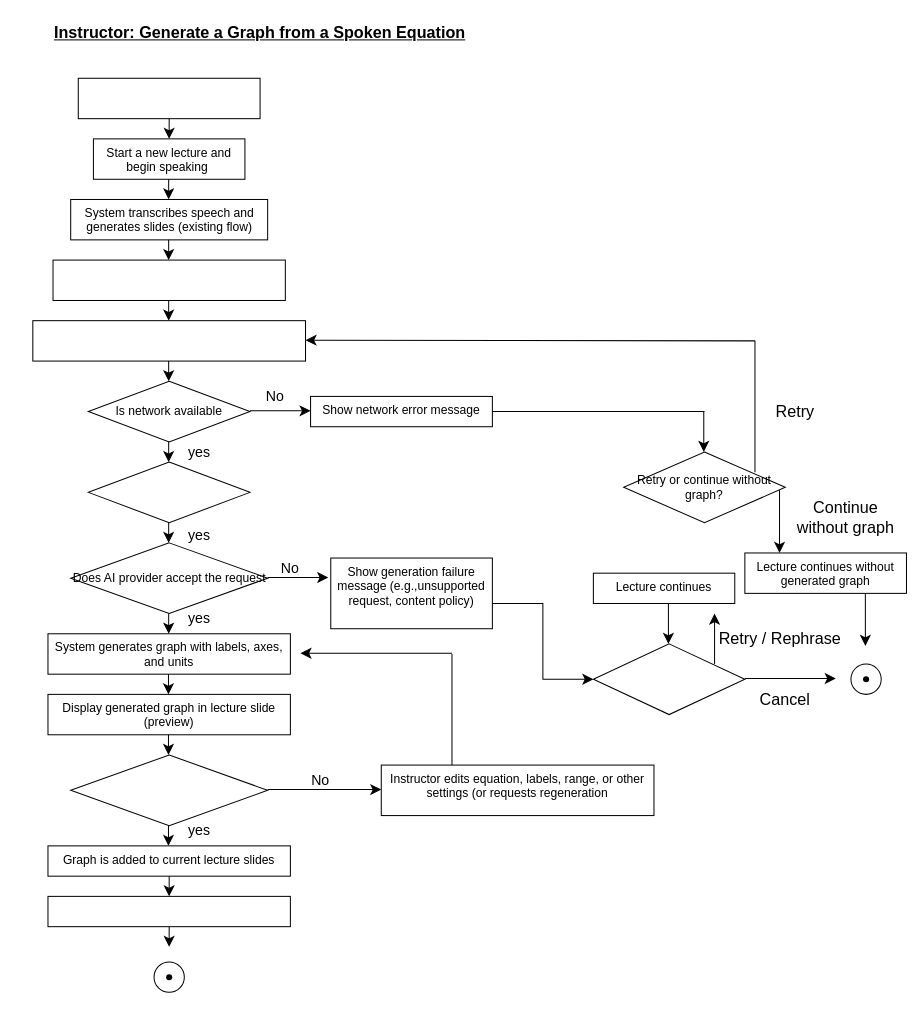
Some shapes in this 924 by 1010 pixel diagram are drawn without their labels. Each missing label, with the centre of its shape:
"Instructor states an equation or data relationship that requires a graph" goes at (168,279).
"Is the graph accurate and clear?" goes at (169,790).
"Lecture continues with graph displayed" goes at (168,911).
"Open The Slide Machine and select a project" goes at (168,98).
"Retry rephrase, or cancel?" goes at (668,679).
"System sends graph generation request to AI provider (new feature)" goes at (169,340).
"was the equation recognized?" goes at (168,492).
